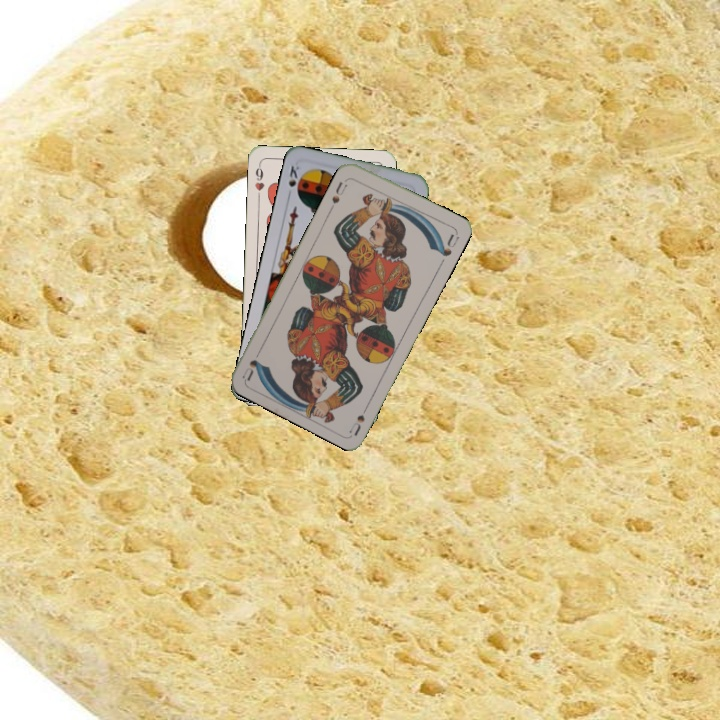H9: (251, 160, 267, 201)
SK: (284, 161, 302, 190)
SU: (346, 398, 373, 437), (328, 174, 353, 206)
